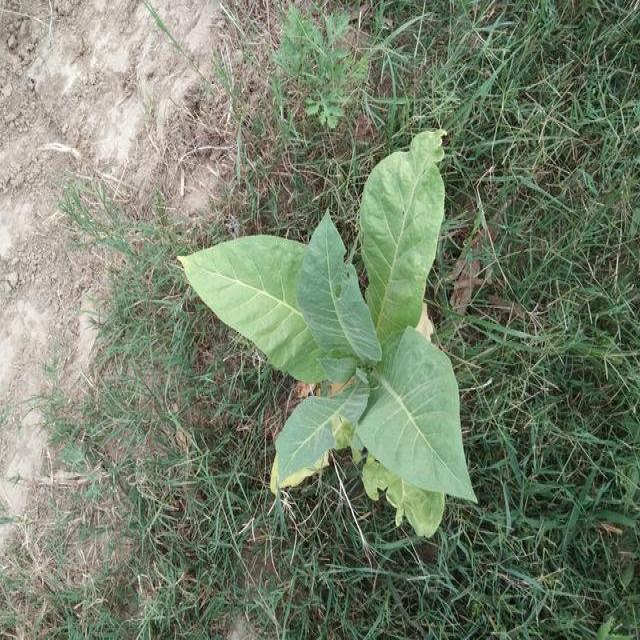crop: (178, 119, 482, 547)
